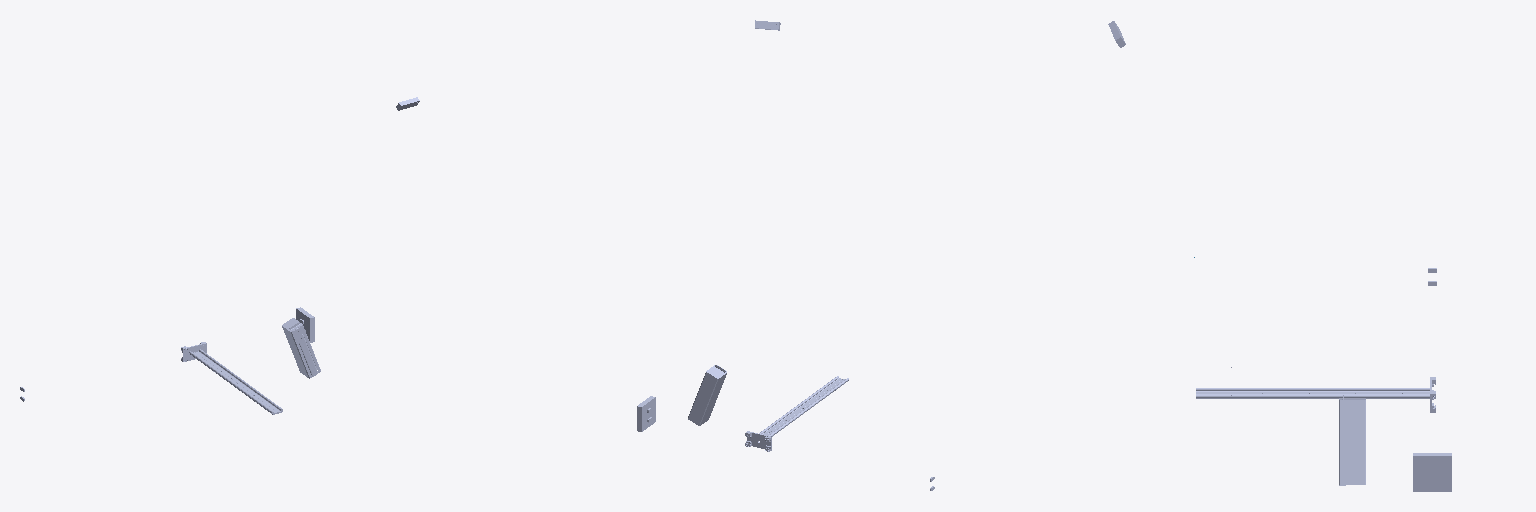
--- What the picture shows (computed from the rendered views, not written in the file) ---
The picture shows the robot from 3 angles, left to right: view 1: azimuth 30°, elevation 25°; view 2: azimuth 150°, elevation 25°; view 3: azimuth 270°, elevation 25°; orthographic projection.
Robot: robo_description — 21 links, 20 joints (2 revolute, 2 prismatic, 16 fixed); root link base_link; default pose: joints at zero except 1 at the middle of their limits (joint5 = 0.4665).
Visible links, largest first — view 1: link2, link5; view 2: link2, link5, base_link; view 3: link2, link5, base_link.
Boxes of the visible links, box(x1,y1,x2,y2) form: link2: box(181, 342, 282, 414); link5: box(282, 318, 320, 378); link2: box(745, 376, 848, 451); link5: box(688, 365, 726, 425); base_link: box(637, 396, 934, 490); link2: box(1196, 377, 1435, 412); link5: box(1339, 395, 1365, 485); base_link: box(1413, 268, 1451, 491).
Size in the robot's own frame: 1.65 by 0.884 by 1.33 metres.
4 mesh visuals loaded from 6 distinct referenced files (4 binary STL); not drawn: 2 (reference not matched to a file when rendering).

robot.urdf — robo_description:
<?xml version="1.0" encoding="utf-8"?>
<!-- 25AUG2023 Changed the minimum limit of lJoint5 to 0.247 and max to 0.686 -->
<!-- This URDF was automatically created by SolidWorks to URDF Exporter! Originally created by Stephen Brawner ([email redacted]) 
     Commit Version: 1.6.0-4-g7f85cfe  Build Version: 1.6.7995.38578
     For more information, please see http://wiki.ros.org/sw_urdf_exporter -->
<robot
  name="robo_description">
  <link
    name="base_link">
    <inertial>
      <origin
        xyz="-5.13826234849775E-17 -1.63904738952765E-17 0.339473684210526"
        rpy="0 0 0" />
      <mass
        value="19" />
      <inertia
        ixx="2.34956140350877"
        ixy="1.11311423041845E-17"
        ixz="3.69215798456927E-16"
        iyy="2.34956140350877"
        iyz="-7.44985984223617E-17"
        izz="0.151666666666667" />
    </inertial>
    <visual>
      <origin
        xyz="0 0 0"
        rpy="0 0 0" />
      <geometry>
        <mesh
          filename="package://robo_description/meshes/base_link.STL" />
      </geometry>
      <material
        name="">
        <color
          rgba="0.792156862745098 0.819607843137255 0.933333333333333 1" />
      </material>
    </visual>
    <collision>
      <origin
        xyz="0 0 0"
        rpy="0 0 0" />
      <geometry>
        <mesh
          filename="package://robo_description/meshes/base_link.STL" />
      </geometry>
    </collision>
  </link>
  <link
    name="link2">
    <inertial>
      <origin
        xyz="-0.001261 -0.2858 0.14572"
        rpy="0 0 0" />
      <mass
        value="3.13280329013611" />
      <inertia
        ixx="0.0169430024052603"
        ixy="-0.00280446630124331"
        ixz="0.0223183329111622"
        iyy="0.162057682822749"
        iyz="0.000505061238040558"
        izz="0.161640952999751" />
    </inertial>
    <visual>
      <origin
        xyz="0 0 -1"
        rpy="0 0 0" />
      <geometry>
        <mesh
          filename="package://robo_description/meshes/link2.STL" />
      </geometry>
      <material
        name="">
        <color
          rgba="0.792156862745098 0.819607843137255 0.933333333333333 1" />
      </material>
    </visual>
    <collision>
      <origin
        xyz="0 0 0"
        rpy="0 0 0" />
      <geometry>
        <mesh
          filename="package://robo_description/meshes/link2.STL" />
      </geometry>
    </collision>
  </link>
  <joint
    name="joint2"
    type="prismatic">
    <origin
      xyz="0.0 0 1"
      rpy="0 0 0" />
    <parent
      link="base_link" />
    <child
      link="link2" />
    <axis
      xyz="0 0 1" />
    <limit
      lower="0"
      upper="1"
      effort="0"
      velocity="0" />
  </joint>
  <link
    name="link4">
    <inertial>
      <origin
        xyz="-0.000438554587764983 0.0620490502692163 -0.172885898172371"
        rpy="0 0 0" />
      <mass
        value="0.162146723185788" />
      <inertia
        ixx="0.00336616371871891"
        ixy="1.46811284877534E-06"
        ixz="-3.57096843523024E-06"
        iyy="0.00312866852492012"
        iyz="0.00048231220150353"
        izz="0.000338308018448651" />
    </inertial>
    <visual>
      <origin
        xyz="-0.4665 0 -0.790"
        rpy="0 0 0" />
      <geometry>
        <mesh
          filename="package://robo_description/meshes/link4.STL" />
      </geometry>
      <material
        name="">
        <color
          rgba="0.792156862745098 0.819607843137255 0.933333333333333 1" />
      </material>
    </visual>
    <collision>
      <origin
        xyz="0 0 0"
        rpy="0 0 0" />
      <geometry>
        <mesh
          filename="package://robo_description/meshes/link4.STL" />
      </geometry>
    </collision>
  </link>
  <joint
    name="joint4"
    type="revolute">
    <origin
      xyz="0.46904 0 -0.21"
      rpy="0 0 0" />
    <parent
      link="link2" />
    <child
      link="link4" />
    <axis
      xyz="0 0 1" />
    <limit
      lower="-2.9671"
      upper="2.9671"
      effort="0"
      velocity="0" />
  </joint>
  <link
    name="link3">
    <inertial>
      <origin
        xyz="-0.0832189655707039 -0.0894795892974461 -0.00179630042130147"
        rpy="0 0 0" />
      <mass
        value="1.71811977068641" />
      <inertia
        ixx="0.00948440583507882"
        ixy="-0.00159429497921182"
        ixz="0.00308193362516688"
        iyy="0.035537875179704"
        iyz="0.000648421421055908"
        izz="0.0305779645247813" />
    </inertial>
    <visual>
      <origin
        xyz="-0.468545 -0.078 -0.43528"
        rpy="0 0 0" />
      <geometry>
        <mesh
          filename="package://robo_description/meshes/link3.STL" />
      </geometry>
      <material
        name="">
        <color
          rgba="0.792156862745098 0.819607843137255 0.933333333333333 1" />
      </material>
    </visual>
    <collision>
      <origin
        xyz="0 0 0"
        rpy="0 0 0" />
      <geometry>
        <mesh
          filename="package://robo_description/meshes/link3.STL" />
      </geometry>
    </collision>
  </link>
  <joint
    name="joint3"
    type="revolute">
    <origin
      xyz="0.0 0.077824 -0.35472"
      rpy="0 0 0" />
    <parent
      link="link4" />
    <child
      link="link3" />
    <axis
      xyz="0 1 0" />
    <limit
      lower="-1.5708"
      upper="1.5708"
      effort="0"
      velocity="0" />
  </joint>
  <link
    name="yanthra_link">
    <inertial>
      <origin
        xyz="-0.0832189655707036 -0.0114795892974462 -0.00179630042130124"
        rpy="0 0 0" />
      <mass
        value="1.71811977068641" />
      <inertia
        ixx="0.00948440583507882"
        ixy="-0.00159429497921182"
        ixz="0.0030819336251669"
        iyy="0.035537875179704"
        iyz="0.000648421421055907"
        izz="0.0305779645247813" />
    </inertial>
    <visual>
      <origin
        xyz="0 0 0"
        rpy="0 0 0" />
      <geometry>
        <box size="0.001 0.001 0.001"/>
      </geometry>
      <material
        name="">
        <color
          rgba="0.792156862745098 0.819607843137255 0.933333333333333 1" />
      </material>
    </visual>
    <collision>
      <origin
        xyz="0 0 0"
        rpy="0 0 0" />
      <geometry>
        <box size="0.001 0.001 0.001"/>
      </geometry>
    </collision>
  </link>
  <joint
    name="yanthra_joint"
    type="fixed">
    <origin
      xyz="0 -0.078 0"
      rpy="0 0 0" />
    <parent
      link="link3" />
    <child
      link="yanthra_link" />
    <axis
      xyz="0 0 0" />
  </joint>
  <link
    name="link5_origin">
    <inertial>
      <origin
        xyz="-0.00874999999999998 0.0375 -0.00507843424240889"
        rpy="0 0 0" />
      <mass
        value="0.0438088883035136" />
      <inertia
        ixx="3.24913884800222E-05"
        ixy="1.33063310958086E-21"
        ixz="-8.470329472543E-22"
        iyy="3.99574478810853E-06"
        iyz="-3.38875204913906E-21"
        izz="3.07317223657389E-05" />
    </inertial>
    <visual>
      <origin
        xyz="0 0 0"
        rpy="0 0 0" />
      <geometry>
        <box size="0.001 0.001 0.001"/>
      </geometry>
      <material
        name="">
        <color
          rgba="0.792156862745098 0.819607843137255 0.933333333333333 1" />
      </material>
    </visual>
    <collision>
      <origin
        xyz="0 0 0"
        rpy="0 0 0" />
      <geometry>
        <box size="0.001 0.001 0.001"/>
      </geometry>
    </collision>
  </link>
  <joint
    name="link5_origin_joint"
    type="fixed">
    <origin
      xyz="0 0 0.0"
      rpy="0 0 0" />
    <parent	
      link="yanthra_link" />
    <child
      link="link5_origin" />
    <axis
      xyz="0 0 0" />
  </joint>
  <link
    name="link5">
    <inertial>
      <origin
        xyz="0.108132413871145 2.08242781028485E-06 0.00569147154470495"
        rpy="0 0 0" />
      <mass
        value="0.277404400359573" />
      <inertia
        ixx="0.00021628976171093"
        ixy="1.27900715148446E-06"
        ixz="-0.000135093187106687"
        iyy="0.00359200319167061"
        iyz="-8.36237914028336E-08"
        izz="0.00358633509004247" />
    </inertial>
    <visual>
      <origin
        xyz="-0.715545 0 -0.43528"
        rpy="0 0 0" />
      <geometry>
        <mesh
          filename="package://robo_description/meshes/link5.STL" />
      </geometry>
      <material
        name="">
        <color
          rgba="0.792156862745098 0.819607843137255 0.933333333333333 1" />
      </material>
    </visual>
    <collision>
      <origin
        xyz="0 0 0"
        rpy="0 0 0" />
      <geometry>
        <mesh
          filename="package://robo_description/meshes/link5.STL" />
      </geometry>
    </collision>
  </link>
  <joint
    name="joint5"
    type="prismatic">
    <origin
      xyz="0.0 0 0"
      rpy="0 0 0" />
    <parent
      link="link5_origin" />
    <child
      link="link5" />
    <axis
      xyz="1 0 0" />
    <limit
      lower="0.247"
      upper="0.686"
      effort="0"
      velocity="0" />
  </joint>
  <link
    name="ee_link">
    <inertial>
      <origin
        xyz="-0.00874999999999998 0.0375 -0.00507843424240889"
        rpy="0 0 0" />
      <mass
        value="0.0438088883035136" />
      <inertia
        ixx="3.24913884800222E-05"
        ixy="1.33063310958086E-21"
        ixz="-8.470329472543E-22"
        iyy="3.99574478810853E-06"
        iyz="-3.38875204913906E-21"
        izz="3.07317223657389E-05" />
    </inertial>
    <visual>
      <origin
        xyz="0 0 0"
        rpy="0 0 0" />
      <geometry>
        <box size="0.001 0.001 0.001"/>
      </geometry>
      <material
        name="">
        <color
          rgba="0.792156862745098 0.819607843137255 0.933333333333333 1" />
      </material>
    </visual>
    <collision>
      <origin
        xyz="0 0 0"
        rpy="0 0 0" />
      <geometry>
        <box size="0.001 0.001 0.001"/>
      </geometry>
    </collision>
  </link>
  <joint
    name="ee_joint"
    type="fixed">
    <origin
      xyz="-0.085 0 0"
      rpy="0 0 0" />
    <parent	
      link="link5" />
    <child
      link="ee_link" />
    <axis
      xyz="0 0 0" />
  </joint>
  <link
    name="aruco_marker_link">
    <inertial>
      <origin
        xyz="-0.00874999999999998 0.0375 -0.00507843424240889"
        rpy="0 0 0" />
      <mass
        value="0.0438088883035136" />
      <inertia
        ixx="3.24913884800222E-05"
        ixy="1.33063310958086E-21"
        ixz="-8.470329472543E-22"
        iyy="3.99574478810853E-06"
        iyz="-3.38875204913906E-21"
        izz="3.07317223657389E-05" />
    </inertial>
    <visual>
      <origin
        xyz="0 0 0"
        rpy="0 0 0" />
      <geometry>
        <box size="0.001 0.001 0.001"/>
      </geometry>
      <material
        name="">
        <color
          rgba="0.792156862745098 0.819607843137255 0.933333333333333 1" />
      </material>
    </visual>
    <collision>
      <origin
        xyz="0 0 0"
        rpy="0 0 0" />
      <geometry>
        <box size="0.001 0.001 0.001"/>
      </geometry>
    </collision>
  </link>
  <joint
    name="aruco_joint"
    type="fixed">
    <origin
      xyz="0.0 0 0.08"
      rpy="0 0 0" />
    <parent	
      link="ee_link" />
    <child
      link="aruco_marker_link" />
    <axis
      xyz="0 0 0" />
  </joint>
  <link
    name="aruco_link_1">
    <inertial>
      <origin
        xyz="-0.00874999999999998 0.0375 -0.00507843424240889"
        rpy="0 0 0" />
      <mass
        value="0.0438088883035136" />
      <inertia
        ixx="3.24913884800222E-05"
        ixy="1.33063310958086E-21"
        ixz="-8.470329472543E-22"
        iyy="3.99574478810853E-06"
        iyz="-3.38875204913906E-21"
        izz="3.07317223657389E-05" />
    </inertial>
    <visual>
      <origin
        xyz="0 0 0"
        rpy="0 0 0" />
      <geometry>
        <box size="0.001 0.001 0.001"/>
      </geometry>
      <material
        name="">
        <color
          rgba="0.792156862745098 0.819607843137255 0.933333333333333 1" />
      </material>
    </visual>
    <collision>
      <origin
        xyz="0 0 0"
        rpy="0 0 0" />
      <geometry>
        <box size="0.001 0.001 0.001"/>
      </geometry>
    </collision>
  </link>
  <joint
    name="aruco_joint_1"
    type="fixed">
    <origin
      xyz="0.0 0.04 0.04"
      rpy="0 0 0" />
    <parent	
      link="aruco_marker_link" />
    <child
      link="aruco_link_1" />
    <axis
      xyz="0 0 0" />
  </joint>
  <link
    name="aruco_link_2">
    <inertial>
      <origin
        xyz="-0.00874999999999998 0.0375 -0.00507843424240889"
        rpy="0 0 0" />
      <mass
        value="0.0438088883035136" />
      <inertia
        ixx="3.24913884800222E-05"
        ixy="1.33063310958086E-21"
        ixz="-8.470329472543E-22"
        iyy="3.99574478810853E-06"
        iyz="-3.38875204913906E-21"
        izz="3.07317223657389E-05" />
    </inertial>
    <visual>
      <origin
        xyz="0 0 0"
        rpy="0 0 0" />
      <geometry>
        <box size="0.001 0.001 0.001"/>
      </geometry>
      <material
        name="">
        <color
          rgba="0.792156862745098 0.819607843137255 0.933333333333333 1" />
      </material>
    </visual>
    <collision>
      <origin
        xyz="0 0 0"
        rpy="0 0 0" />
      <geometry>
        <box size="0.001 0.001 0.001"/>
      </geometry>
    </collision>
  </link>
  <joint
    name="aruco_joint_2"
    type="fixed">
    <origin
      xyz="0.0 -0.04 0.04"
      rpy="0 0 0" />
    <parent	
      link="aruco_marker_link" />
    <child
      link="aruco_link_2" />
    <axis
      xyz="0 0 0" />
  </joint>
  <link
    name="aruco_link_3">
    <inertial>
      <origin
        xyz="-0.00874999999999998 0.0375 -0.00507843424240889"
        rpy="0 0 0" />
      <mass
        value="0.0438088883035136" />
      <inertia
        ixx="3.24913884800222E-05"
        ixy="1.33063310958086E-21"
        ixz="-8.470329472543E-22"
        iyy="3.99574478810853E-06"
        iyz="-3.38875204913906E-21"
        izz="3.07317223657389E-05" />
    </inertial>
    <visual>
      <origin
        xyz="0 0 0"
        rpy="0 0 0" />
      <geometry>
        <box size="0.001 0.001 0.001"/>
      </geometry>
      <material
        name="">
        <color
          rgba="0.792156862745098 0.819607843137255 0.933333333333333 1" />
      </material>
    </visual>
    <collision>
      <origin
        xyz="0 0 0"
        rpy="0 0 0" />
      <geometry>
        <box size="0.001 0.001 0.001"/>
      </geometry>
    </collision>
  </link>
  <joint
    name="aruco_joint_3"
    type="fixed">
    <origin
      xyz="0.0 0.04 -0.04"
      rpy="0 0 0" />
    <parent	
      link="aruco_marker_link" />
    <child
      link="aruco_link_3" />
    <axis
      xyz="0 0 0" />
  </joint>
  <link
    name="aruco_link_4">
    <inertial>
      <origin
        xyz="-0.00874999999999998 0.0375 -0.00507843424240889"
        rpy="0 0 0" />
      <mass
        value="0.0438088883035136" />
      <inertia
        ixx="3.24913884800222E-05"
        ixy="1.33063310958086E-21"
        ixz="-8.470329472543E-22"
        iyy="3.99574478810853E-06"
        iyz="-3.38875204913906E-21"
        izz="3.07317223657389E-05" />
    </inertial>
    <visual>
      <origin
        xyz="0 0 0"
        rpy="0 0 0" />
      <geometry>
        <box size="0.001 0.001 0.001"/>
      </geometry>
      <material
        name="">
        <color
          rgba="0.792156862745098 0.819607843137255 0.933333333333333 1" />
      </material>
    </visual>
    <collision>
      <origin
        xyz="0 0 0"
        rpy="0 0 0" />
      <geometry>
        <box size="0.001 0.001 0.001"/>
      </geometry>
    </collision>
  </link>
  <joint
    name="aruco_joint_4"
    type="fixed">
    <origin
      xyz="0.0 -0.04 -0.04"
      rpy="0 0 0" />
    <parent	
      link="aruco_marker_link" />
    <child
      link="aruco_link_4" />
    <axis
      xyz="0 0 0" />
  </joint>
  <link
    name="link7">
    <inertial>
      <origin
        xyz="-0.00129487747822488 -0.0114795892973884 0.11996423535158"
        rpy="0 0 0" />
      <mass
        value="1.71811977068641" />
      <inertia
        ixx="0.0113386071435481"
        ixy="-0.00171490439294498"
        ixz="-0.00672100859249017"
        iyy="0.0355378751797041"
        iyz="-0.0001460470577602"
        izz="0.0287237632163119" />
    </inertial>
    <visual>
      <origin
        xyz="0 0 0"
        rpy="0 0 0" />
      <geometry>
        <box size="0.001 0.001 0.001"/>
      </geometry>
      <material
        name="">
        <color
          rgba="0.792156862745098 0.819607843137255 0.933333333333333 1" />
      </material>
    </visual>
    <collision>
      <origin
        xyz="0 0 0"
        rpy="0 0 0" />
      <geometry>
        <box size="0.001 0.001 0.001"/>
      </geometry>
    </collision>
  </link>
  <joint
    name="joint7"
    type="fixed">
    <origin
      xyz="0.47229 -0.069971 0.79711"
      rpy="0 0.785398 -1.5708" />
    <parent
      link="base_link"/>
    <child
      link="link7"/>
    <axis
      xyz="0 0 0" />
  </joint>
  <link
    name="camera_mount_link">
    <inertial>
      <origin
        xyz="-0.00129487747822488 -0.0114795892973883 0.11996423535158"
        rpy="0 0 0" />
      <mass
        value="1.71811977068641" />
      <inertia
        ixx="0.0113386071435481"
        ixy="-0.00171490439294498"
        ixz="-0.00672100859249018"
        iyy="0.0355378751797041"
        iyz="-0.000146047057760202"
        izz="0.0287237632163119" />
    </inertial>
    <visual>
      <origin
        xyz="0 0 0"
        rpy="0 0 0" />
      <geometry>
        <box size="0.001 0.001 0.001"/>
      </geometry>
      <material
        name="">
        <color
          rgba="0.792156862745098 0.819607843137255 0.933333333333333 1" />
      </material>
    </visual>
    <collision>
      <origin
        xyz="0 0 0"
        rpy="0 0 0" />
      <geometry>
        <box size="0.001 0.001 0.001"/>
      </geometry>
    </collision>
  </link>
     <!--Realsense Camera depth is 20 mm from back to glass, But the depth start point(GROUND ZERO REFERENCE i.e depth is Zero) is 1.1 mm behind glass-->
     <!--Camera thickness-Zero Ref +Plate thick=20-1.1+2 = 20.09 mm -->
     <!-- xyz="0.0209 -0.0375 0"-->
  <joint
    name="camera_mount_joint"
    type="fixed">
    <origin
      xyz="0.02090 -0.0375 0"
      rpy="-1.5708 0 -1.5708" />
    <parent
      link="link7" />
    <child
      link="camera_mount_link" />
    <axis
      xyz="0 0 0" />
  </joint>
  <link
    name="virtual_cam_link">
    <inertial>
      <origin
        xyz="-0.00874999999999998 0.0375 -0.00507843424240889"
        rpy="0 0 0" />
      <mass
        value="0.0438088883035136" />
      <inertia
        ixx="3.24913884800222E-05"
        ixy="1.33063310958086E-21"
        ixz="-8.470329472543E-22"
        iyy="3.99574478810853E-06"
        iyz="-3.38875204913906E-21"
        izz="3.07317223657389E-05" />
    </inertial>
    <visual>
      <origin
        xyz="0 0 0"
        rpy="0 0 0" />
      <geometry>
        <box size="0.001 0.001 0.001"/>
      </geometry>
      <material
        name="">
        <color
          rgba="0.792156862745098 0.819607843137255 0.933333333333333 1" />
      </material>
    </visual>
    <collision>
      <origin
        xyz="0 0 0"
        rpy="0 0 0" />
      <geometry>
        <box size="0.001 0.001 0.001"/>
      </geometry>
    </collision>
  </link>
  <joint
    name="virtual_cam_link_joint"
    type="fixed">
    <origin
      xyz="0 0 0"
      rpy="0 0 0" />
    <parent	
      link="camera_mount_link" />
    <child
      link="virtual_cam_link" />
    <axis
      xyz="0 0 0" />
  </joint>

  <link
    name="camera_link">
    <inertial>
      <origin
        xyz="-0.00874999999999998 0.0375 -0.00507843424240889"
        rpy="0 0 0" />
      <mass
        value="0.0438088883035136" />
      <inertia
        ixx="3.24913884800222E-05"
        ixy="1.33063310958086E-21"
        ixz="-8.470329472543E-22"
        iyy="3.99574478810853E-06"
        iyz="-3.38875204913906E-21"
        izz="3.07317223657389E-05" />
    </inertial>
    <visual>
      <origin
        xyz="-0.03768 -0.425 -0.175"
        rpy="0 -2.04 -1.5708" />
      <geometry>
        <mesh
          filename="package://robo_description/meshes/camera_link.STL" />
      </geometry>
      <material
        name="">
        <color
          rgba="0.792156862745098 0.819607843137255 0.933333333333333 1" />
      </material>
    </visual>
    <collision>
      <origin
        xyz="0 0 0"
        rpy="0 0 0" />
      <geometry>
        <mesh
          filename="package://robo_description/meshes/camera_link.STL" />
      </geometry>
    </collision>
  </link>
  <joint
    name="camera_link_joint"
    type="fixed">
    <origin
      xyz="-0.0431069 0.0838383 0.0984351"
      rpy="3.08521 -3.04853 2.95401" />
    <parent
      link="virtual_cam_link" />
    <child
      link="camera_link" />
    <axis
      xyz="0 0 0" />
  </joint>

  <link name="camera_depth_frame">

    <visual>

    <origin xyz="0 0 0" rpy="0 0 0" />

      <geometry>

        <box size="0.001 0.001 0.001"/>

      </geometry>

    </visual>

  </link>

  <joint name="camera_depth_frame_joint" type="fixed">

    <origin rpy="0 0 0" xyz="0 0 0"/>

    <parent link="camera_link"/>

    <child link="camera_depth_frame"/>

  </joint>

  <link name="camera_depth_optical_frame">

    <visual>

    <origin xyz="0 0 0" rpy="0 0 0" />

      <geometry>

        <box size="0.001 0.001 0.001"/>

      </geometry>

    </visual>

  </link>

  <joint name="camera_depth_optical_frame_joint" type="fixed">

   <origin rpy="0 0 0" xyz="0 0 0"/>

   <parent link="camera_depth_frame"/>

   <child link="camera_depth_optical_frame"/>

  </joint>

  <link name="camera_color_frame">

    <visual>

    <origin xyz="0 0 0" rpy="0 0 0" />

      <geometry>

        <box size="0.001 0.001 0.001"/>

      </geometry>

    </visual>

  </link>

  <joint name="camera_color_frame_joint" type="fixed">

    <origin rpy="0 0 0" xyz="0 0 0"/>

    <parent link="camera_link"/>

    <child link="camera_color_frame"/>

  </joint>

  <link name="camera_color_optical_frame">

    <visual>

    <origin xyz="0 0 0" rpy="0 0 0" />

      <geometry>

        <box size="0.001 0.001 0.001"/>

      </geometry>

    </visual>

  </link>

  <joint name="camera_color_optical_frame_joint" type="fixed">

   <origin rpy="0 0 0" xyz="0 0 0"/>

   <parent link="camera_color_frame"/>

   <child link="camera_color_optical_frame"/>

  </joint>
  <gazebo reference="stand">

    <material>Gazebo/Grey</material>

  </gazebo>

  <gazebo reference="link3">

    <material>Gazebo/Green</material>

  </gazebo>

  <gazebo reference="link4">

    <material>Gazebo/Red</material>

  </gazebo>

  <gazebo reference="link5">

    <material>Gazebo/Green</material>

  </gazebo>

  <gazebo reference="link9">

    <material>Gazebo/Red</material>

  </gazebo>

  <gazebo reference="link6">

    <material>Gazebo/White</material>

  </gazebo>

  <transmission name="tran1">

    <type>transmission_interface/SimpleTransmission</type>

    <joint name="joint3">

      <hardwareInterface>hardware_interface/PositionJointInterface</hardwareInterface>

    </joint>

    <actuator name="motor1">

      <hardwareInterface>hardware_interface/PositionJointInterface</hardwareInterface>

      <mechanicalReduction>1</mechanicalReduction>

    </actuator>

  </transmission>

  <transmission name="tran1">

    <type>transmission_interface/SimpleTransmission</type>

    <joint name="joint4">

      <hardwareInterface>hardware_interface/PositionJointInterface</hardwareInterface>

    </joint>

    <actuator name="motor1">

      <hardwareInterface>hardware_interface/PositionJointInterface</hardwareInterface>

      <mechanicalReduction>1</mechanicalReduction>

    </actuator>

  </transmission>

  <transmission name="tran1">

    <type>transmission_interface/SimpleTransmission</type>

    <joint name="joint5">

      <hardwareInterface>hardware_interface/PositionJointInterface</hardwareInterface>

    </joint>

    <actuator name="motor1">

      <hardwareInterface>hardware_interface/PositionJointInterface</hardwareInterface>

      <mechanicalReduction>1</mechanicalReduction>

    </actuator>

  </transmission>

  <gazebo>

    <plugin filename="libgazebo_ros_control.so" name="gazebo_ros_control">

      <robotNameSpace>/arm_controller</robotNameSpace>

    </plugin>

  </gazebo>

</robot>
